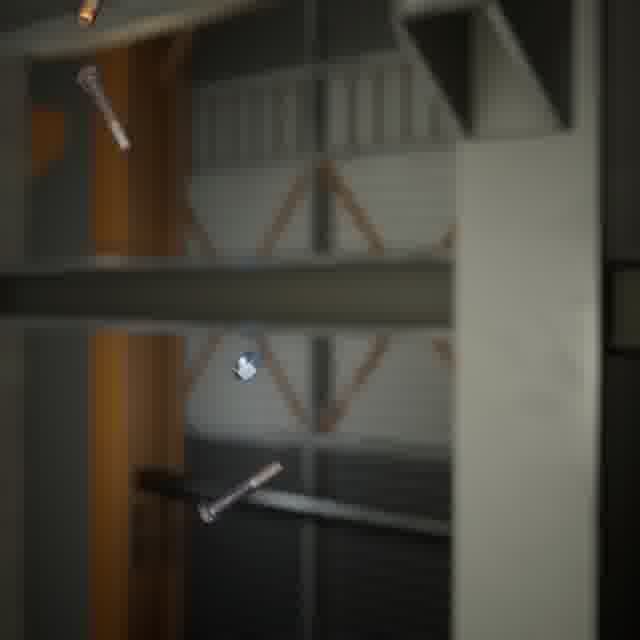bolt: (193, 454, 289, 531), (73, 61, 136, 157), (72, 0, 108, 32)
nut: (227, 346, 267, 384)
